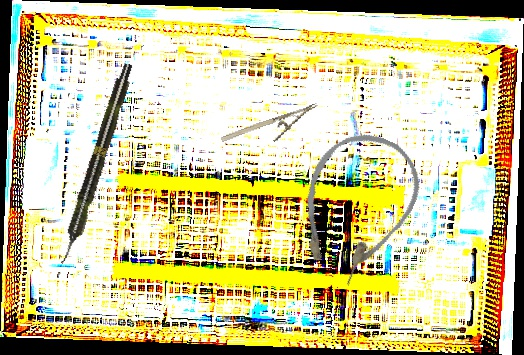Cannula: (277, 118, 434, 297)
Handpiece: (54, 61, 138, 267)
Needle Holder: (219, 102, 325, 158)
